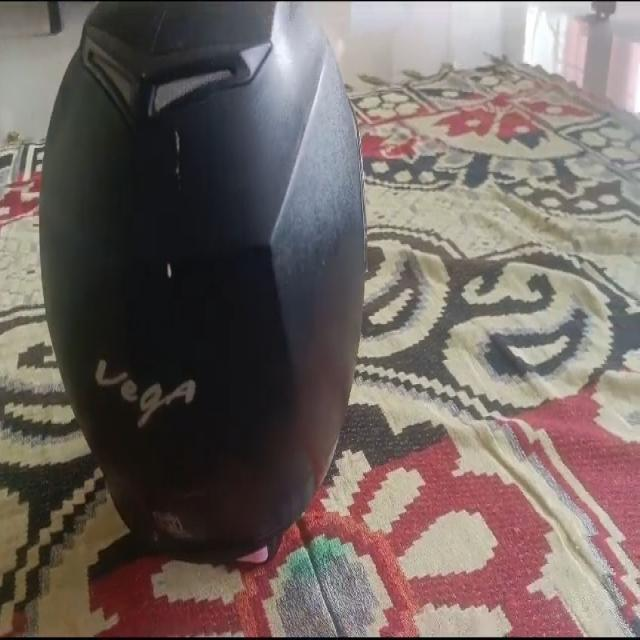Helmet: (38, 4, 367, 572)
